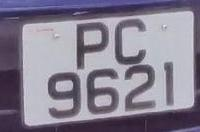1: (157, 59, 182, 112)
2: (119, 61, 160, 115)
6: (81, 66, 126, 119)
9: (40, 66, 89, 122)
C: (109, 15, 155, 69)
P: (68, 18, 113, 72)
